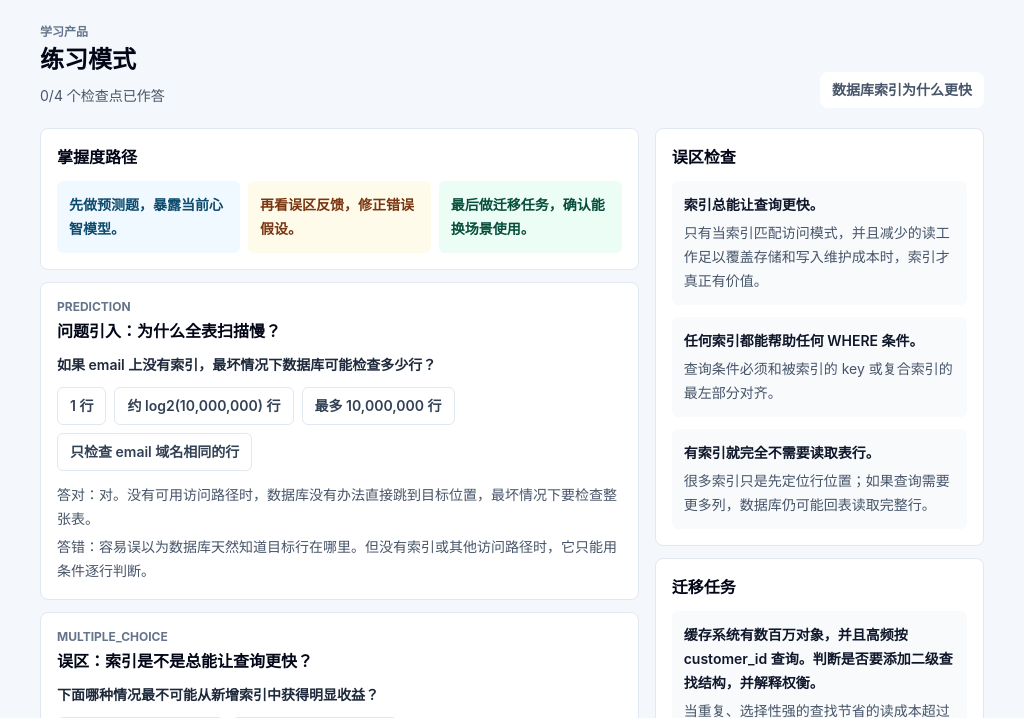
Test: LearningProductRenderer › assessment mode provides answer feedback
This screenshot has width=1024, height=718.
Click the button "1 行" at (82, 406), box [57, 387, 106, 425]
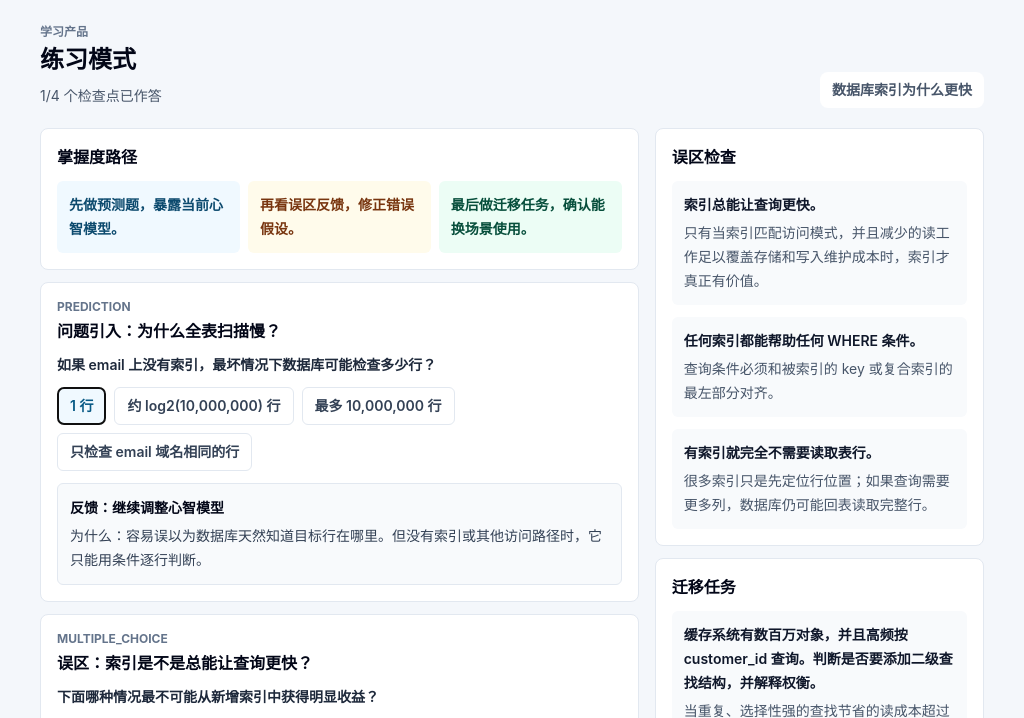
Expected: the text "反馈：继续调整心智模型" is shown, [70, 499, 224, 516]
Expected: the text "为什么：容易误以为数据库天然知道目标行在哪里。但没有索引或其他访问路径时，它只能用条件逐行判断。" is shown, [70, 524, 609, 572]
